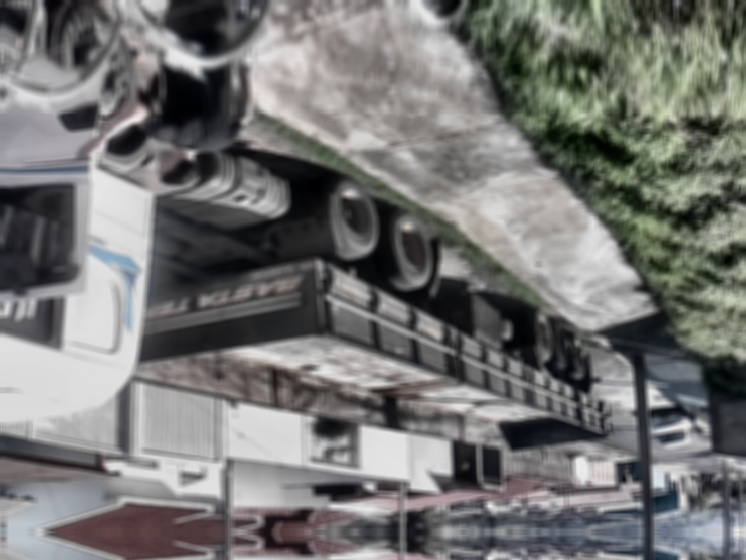person: (71, 0, 260, 188)
